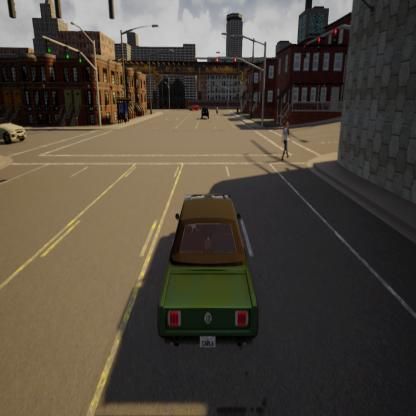Cars: (145, 170, 270, 358), (0, 107, 35, 143), (198, 103, 212, 122)
Pedestrian: (276, 117, 295, 162)
